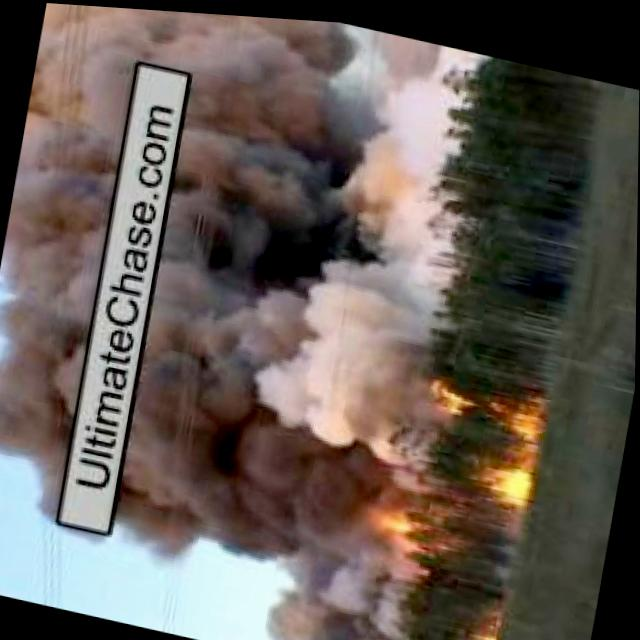helmet: (432, 373, 546, 503), (369, 496, 422, 534), (466, 611, 504, 640)
no_helmet: (110, 6, 480, 603), (0, 0, 144, 528)
